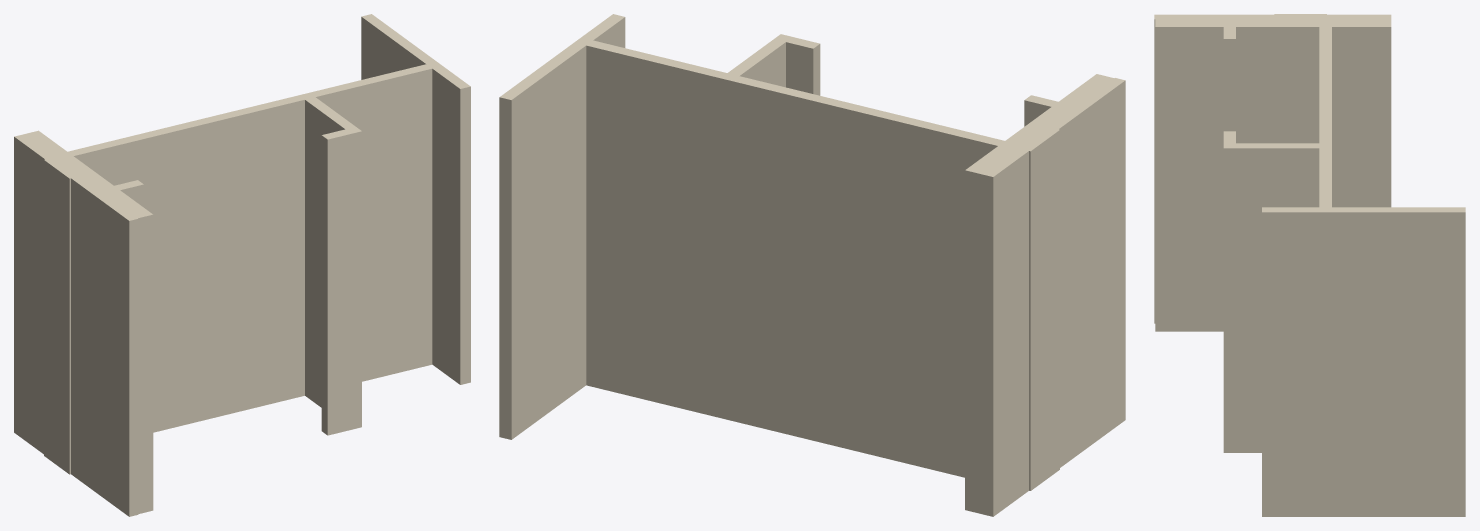
3 views of the same model, side by side, from view 1: azimuth 30°, elevation 25°; view 2: azimuth 150°, elevation 25°; view 3: azimuth 270°, elevation 25° (orthographic). The views are drawn at different scales.
Visible parts, largest first — view 1: A-FF-WALL-001; view 2: A-FF-WALL-001; view 3: A-FF-WALL-001.
Boxes of the visible parts, x1,y1,x2,y2 form: A-FF-WALL-001: (14, 14, 470, 516); A-FF-WALL-001: (499, 14, 1125, 516); A-FF-WALL-001: (1154, 14, 1465, 516).
Bounding box in the file's own units: 3.38 × 2.42 × 2.24.
